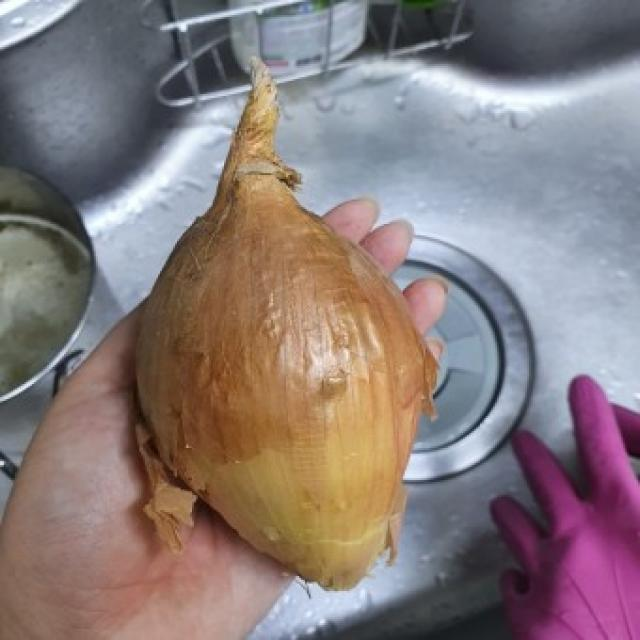onion: (130, 57, 435, 593)
